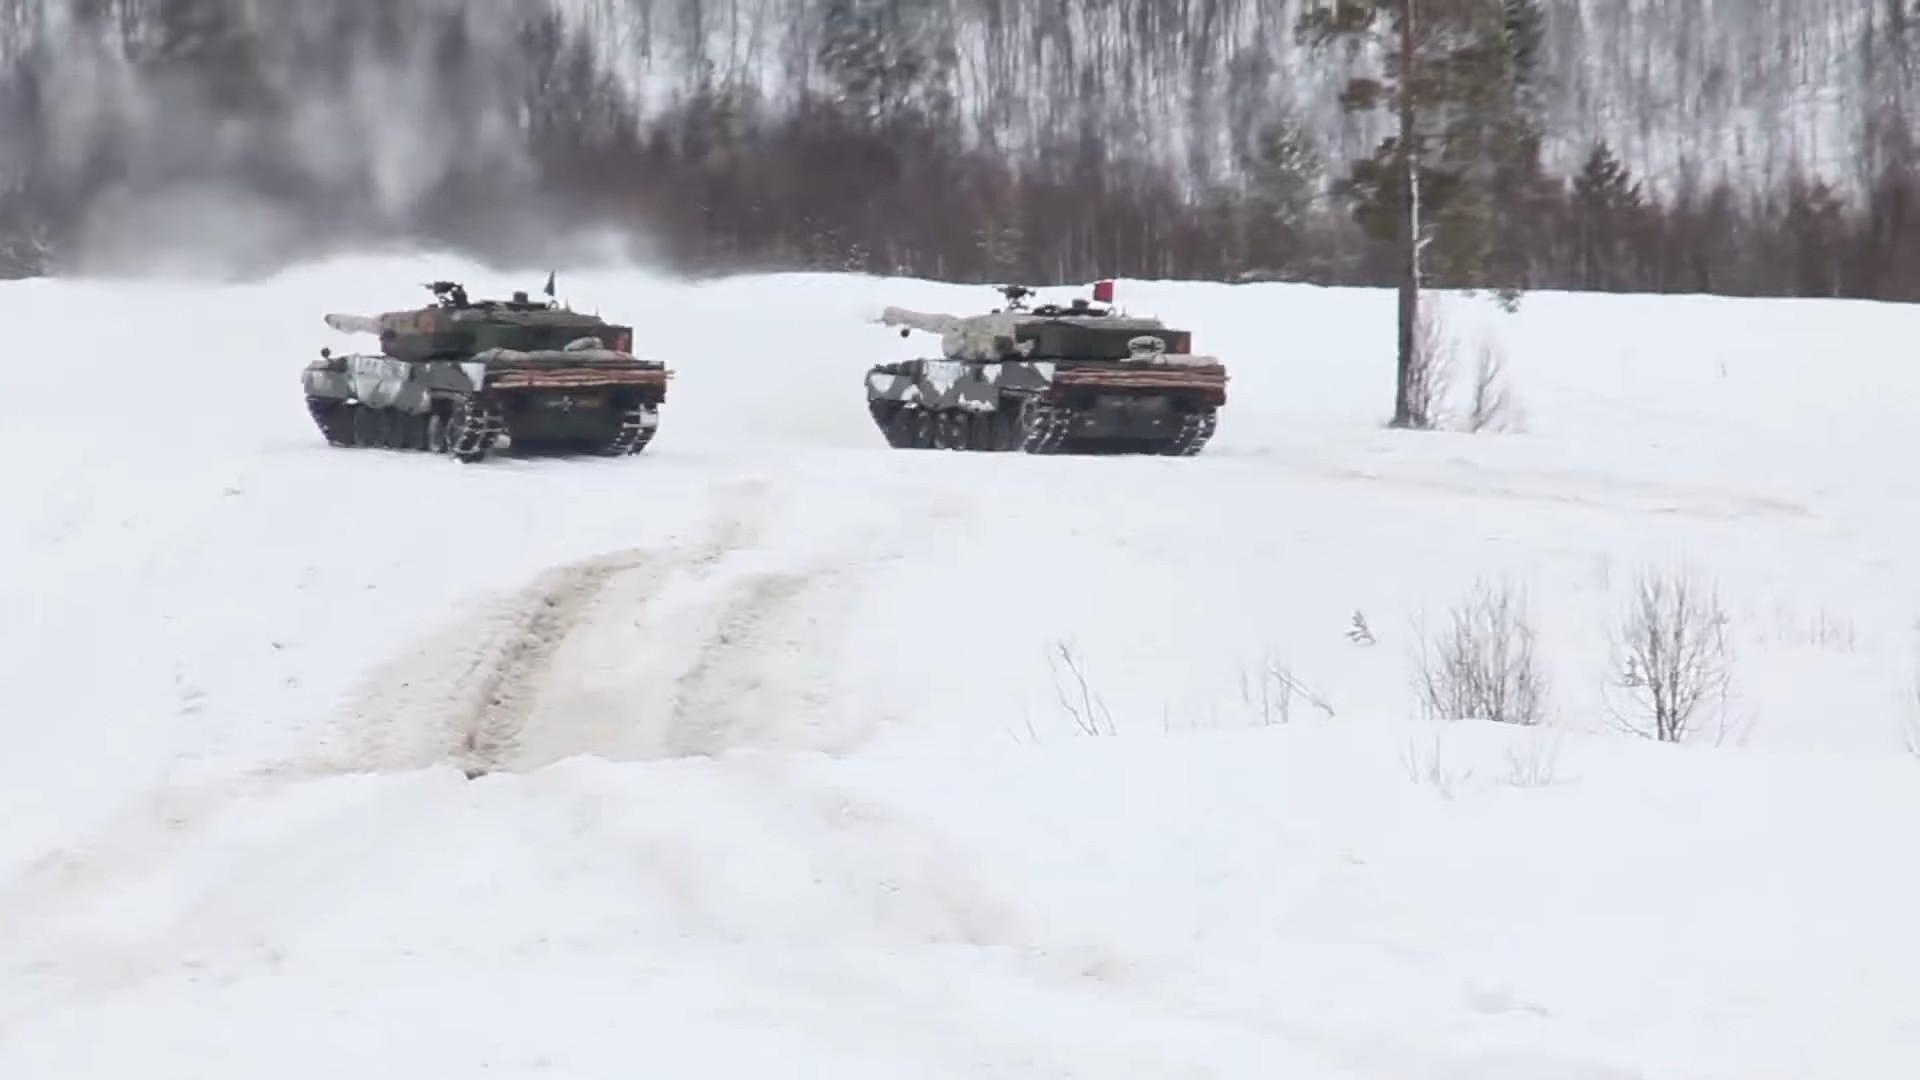tank: (301, 291, 666, 456), (864, 299, 1225, 455)
